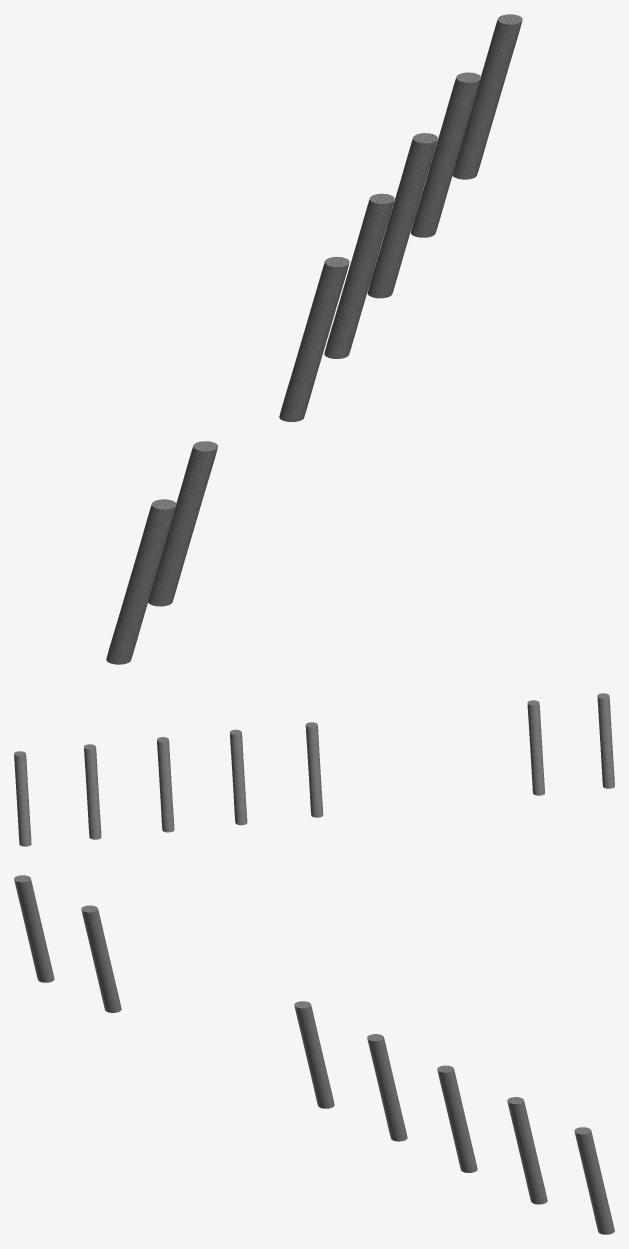
File: COLUMNS.fbx
3 views of the same model, one above another, from view 1: azimuth 30°, elevation 25°; view 2: azimuth 150°, elevation 25°; view 3: azimuth 270°, elevation 25° (orthographic). The views are drawn at different scales.
Visible parts, largest first — view 1: Carbon Fiber Columns; view 2: Carbon Fiber Columns; view 3: Carbon Fiber Columns.
Boxes of the visible parts, bbox=[...] form: Carbon Fiber Columns: bbox=[106, 14, 522, 664]; Carbon Fiber Columns: bbox=[14, 693, 614, 846]; Carbon Fiber Columns: bbox=[14, 875, 614, 1234].
Bounding box in the file's own units: 76.11 × 14.51 × 71.98.
Materials: 1 (1 with a texture image).
